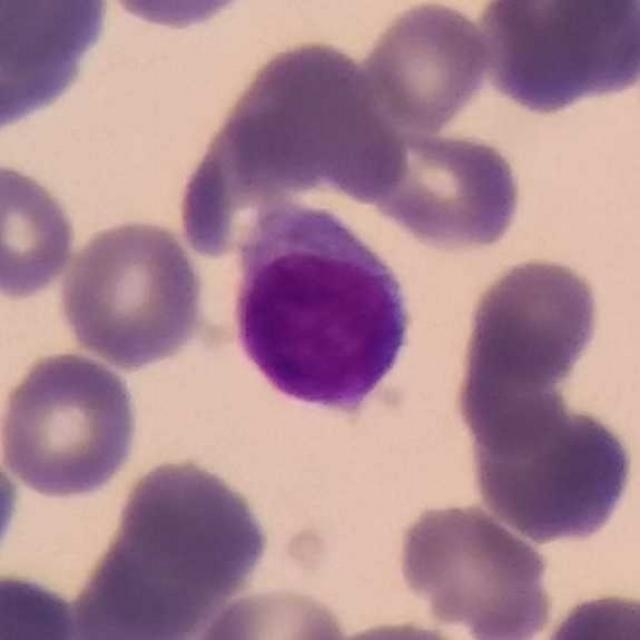Lymphocyte: (223, 200, 422, 426)
RBC: (90, 453, 274, 636), (462, 392, 639, 546), (232, 52, 398, 200), (345, 121, 527, 255), (56, 214, 209, 370), (392, 497, 556, 640), (0, 347, 142, 501), (473, 0, 639, 116), (461, 253, 604, 387), (356, 0, 494, 135), (451, 327, 573, 461), (0, 0, 106, 133), (0, 157, 80, 302), (185, 583, 354, 640), (82, 0, 267, 33), (0, 569, 82, 640), (536, 586, 639, 640), (304, 615, 487, 640), (0, 456, 32, 554)
